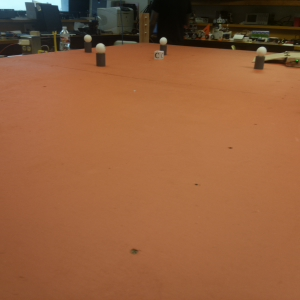obstacle: (255, 46, 266, 71), (96, 45, 106, 66), (159, 37, 168, 54), (84, 35, 91, 51)
slope: (266, 49, 286, 69)
